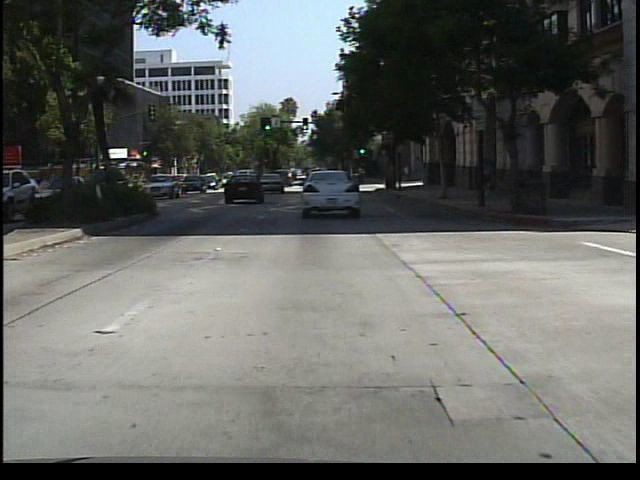person: (479, 156, 498, 203)
